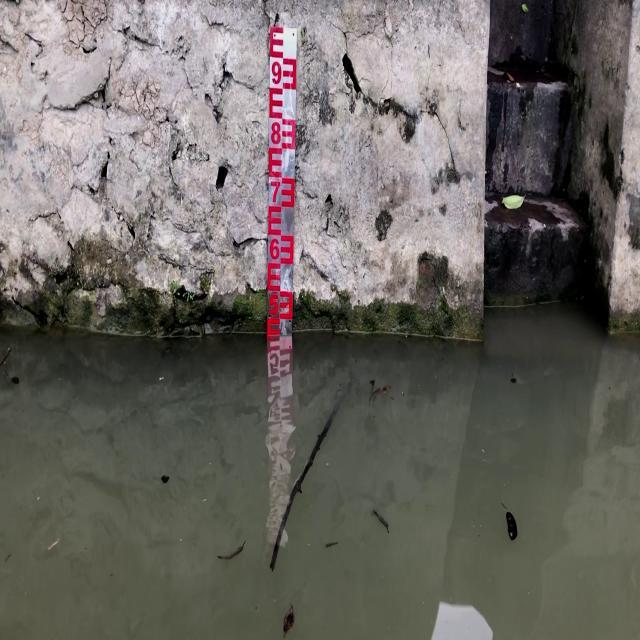ruler: (259, 24, 304, 349)
value: (268, 118, 284, 149), (269, 57, 284, 89), (267, 289, 281, 317), (269, 175, 282, 205), (268, 235, 281, 262)
